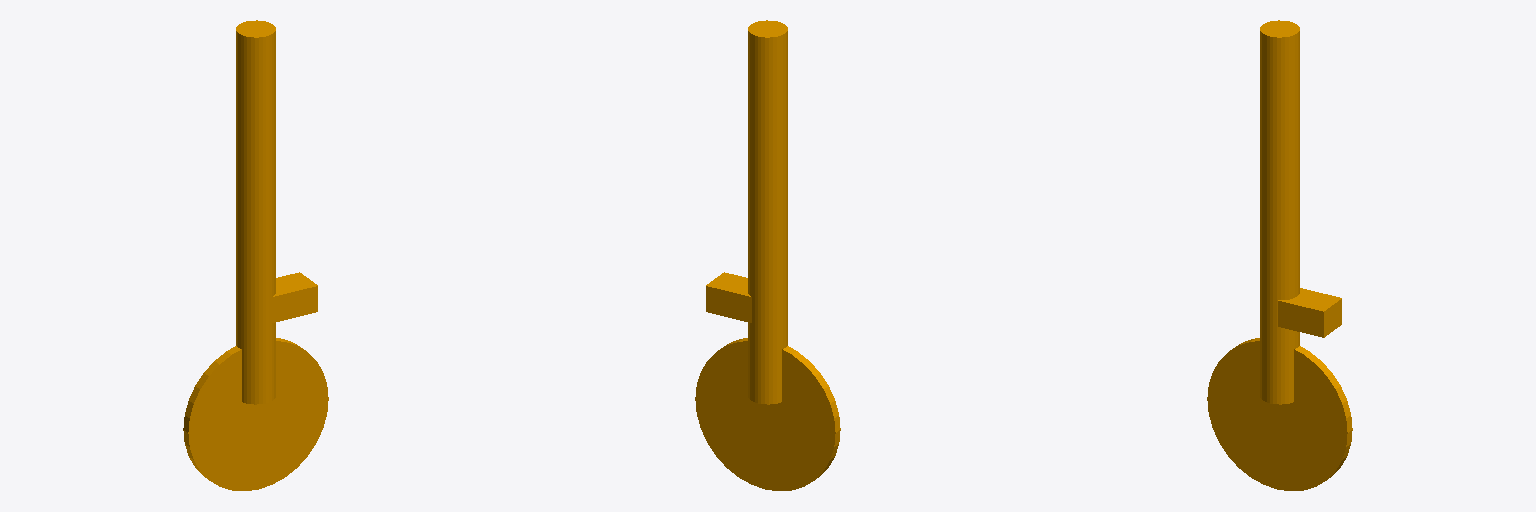
robot.urdf — pizza_cutter:
<?xml version="1.0"?>

<robot name="pizza_cutter">
  <link name="pizza_cutter">
    <gravity>false</gravity>
    <inertial>
       <mass value="0.02"/>
       <inertia
        ixx="0.0007"
        ixy="0"
        ixz="0"
        iyy="0.0007"
        iyz="0"
        izz="0.007" />
    </inertial>
    <collision>
        <geometry><box size="0.0001 0.0001 0.0001" /></geometry>
          <surface>
            <contact>
              <collide_without_contact>true</collide_without_contact>
            </contact>
          </surface>
    </collision>
    <visual>
      <geometry>
        <mesh filename="package://pizza_demo/models/pizza_cutter/meshes/pizza_cutter.stl"/>
      </geometry>
    </visual>
  </link>
</robot>

--- What the picture shows (computed from the rendered views, not written in the file) ---
The picture shows the robot from 3 angles, left to right: view 1: azimuth 30°, elevation 25°; view 2: azimuth 150°, elevation 25°; view 3: azimuth 330°, elevation 25°; orthographic projection.
Robot: pizza_cutter — 1 links, 0 joints (none); root link pizza_cutter; default pose: all joints at 0.
Links seen in each view (by area): view 1: pizza_cutter; view 2: pizza_cutter; view 3: pizza_cutter.
Boxes of the visible links, x1,y1,x2,y2 form: pizza_cutter: (183,20,328,490); pizza_cutter: (695,20,840,490); pizza_cutter: (1207,20,1352,490).
Bounding box of the posed robot: 0.08 × 0.02 × 0.25 m (x, y, z).
Meshes: 1 distinct files referenced, 1 mesh visuals loaded (1 binary STL).